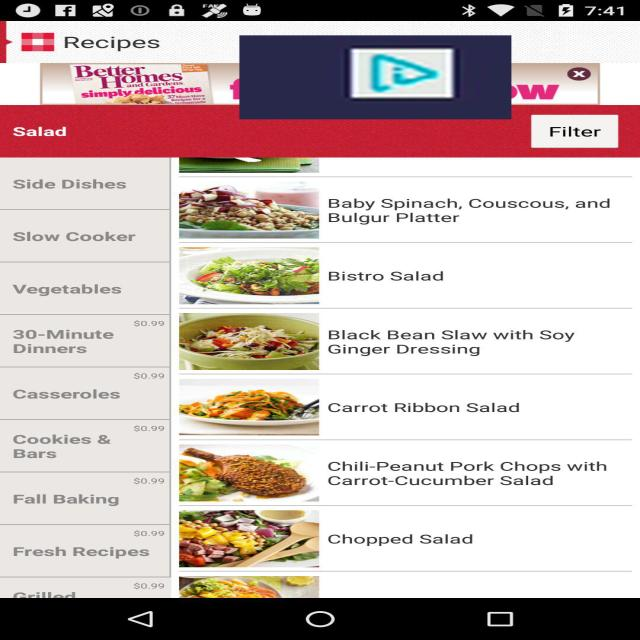sneaking: (239, 36, 512, 120)
